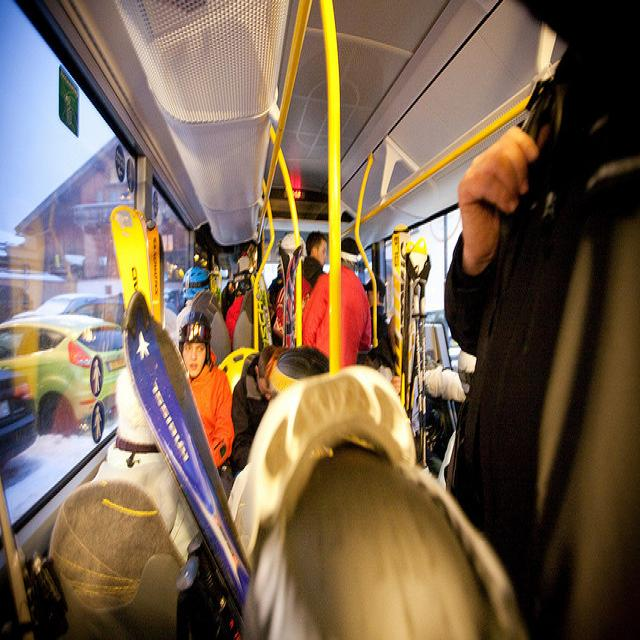Vehicle: (0, 312, 127, 435), (12, 291, 122, 325), (0, 366, 36, 468)
